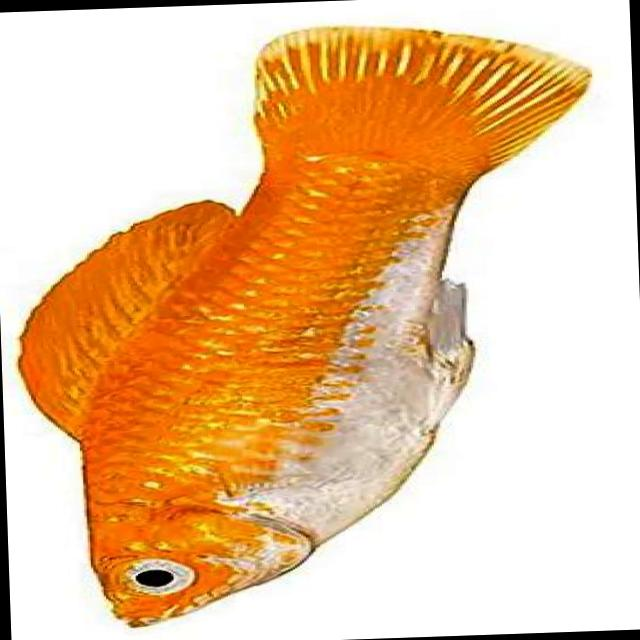PlatyFish: (0, 8, 615, 640)
